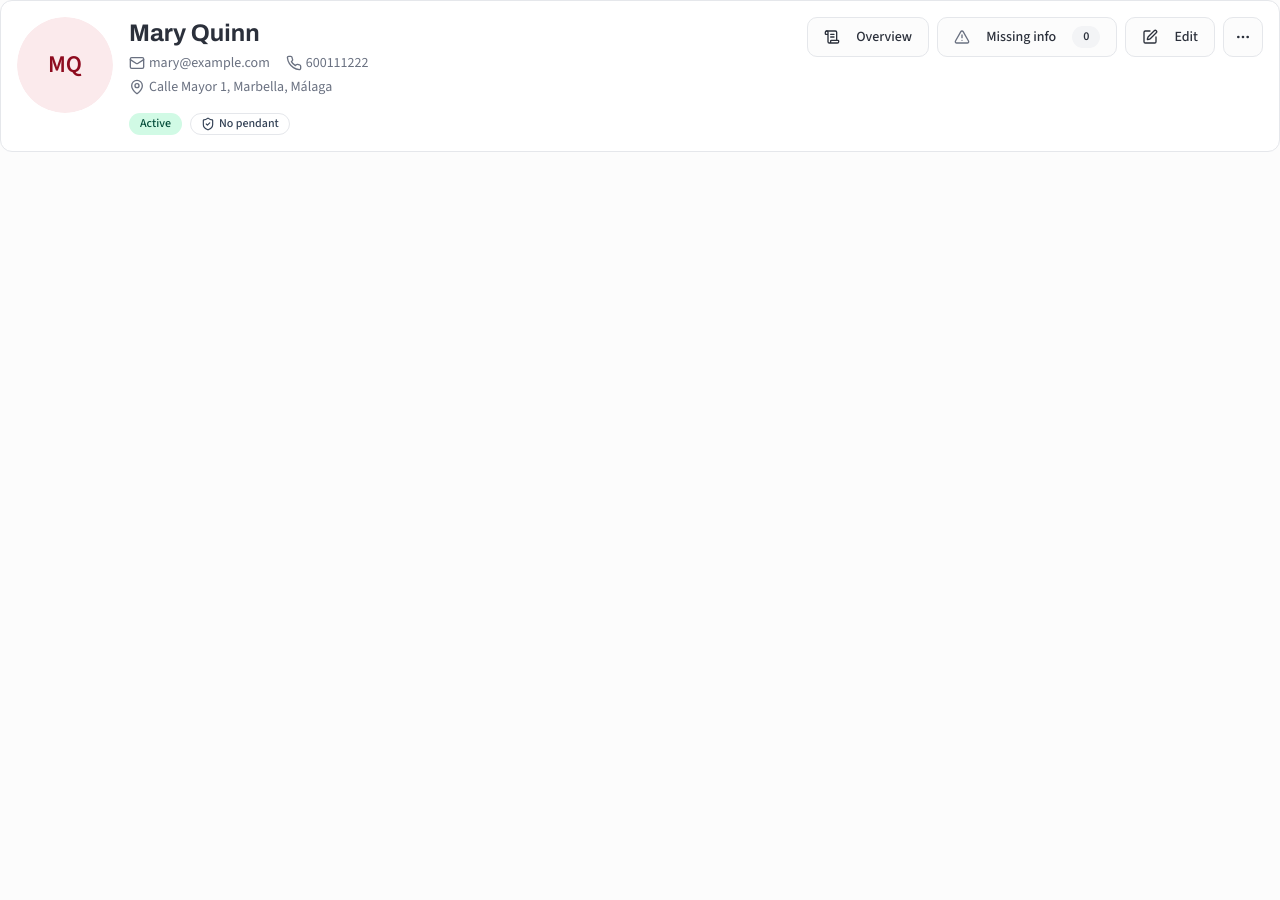
Test: Overview — reachable from the header › puts an Overview button beside Edit and shows the record when pressed
Click the button with test id "member-overview-trigger": (868, 37) [807, 17, 929, 57]
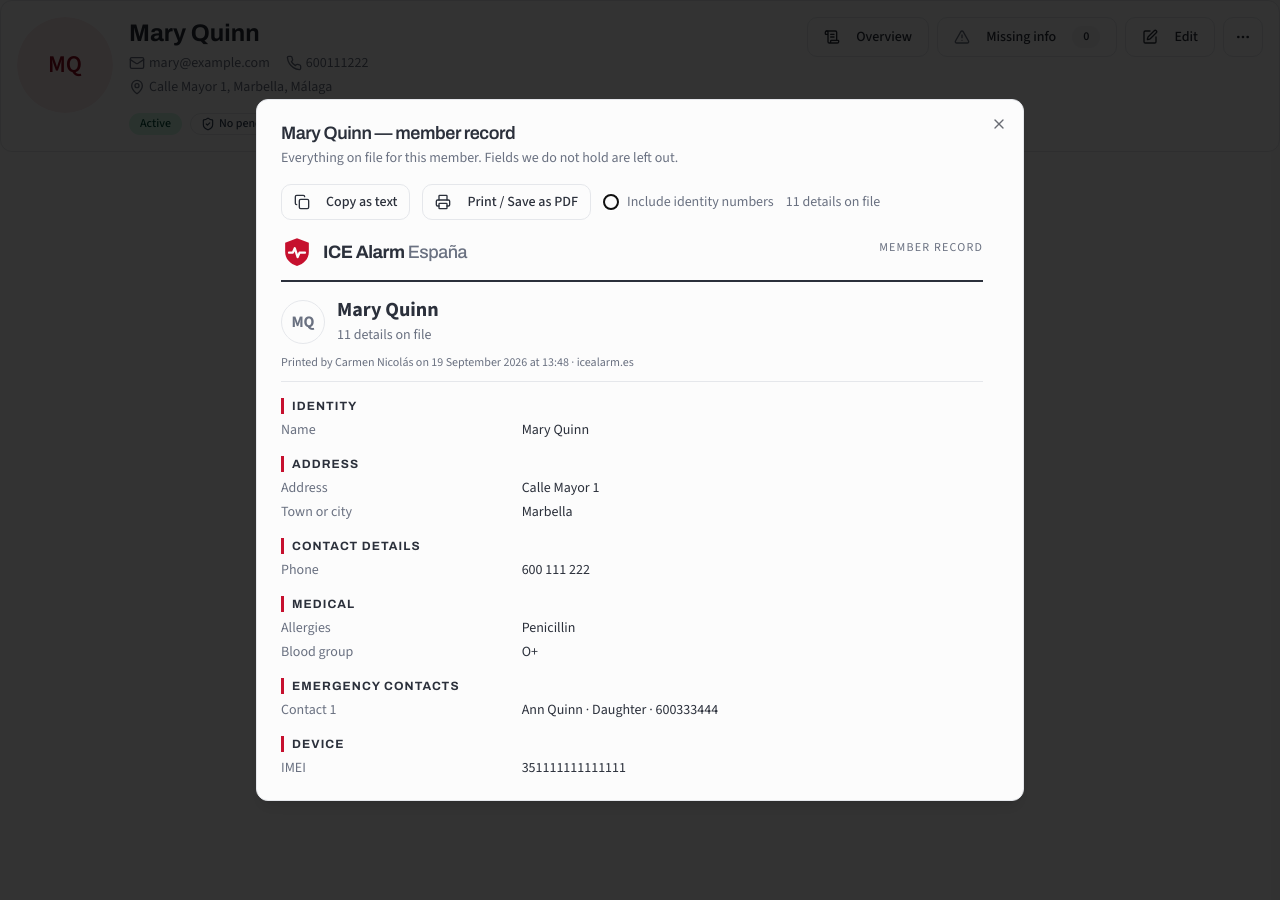
Now the element with test id "member-document-section-identity" is shown, box [281, 398, 983, 414]
Now the text "Calle Mayor 1" is shown, box [522, 478, 600, 498]
Now the text "O+" is shown, box [522, 642, 538, 662]
